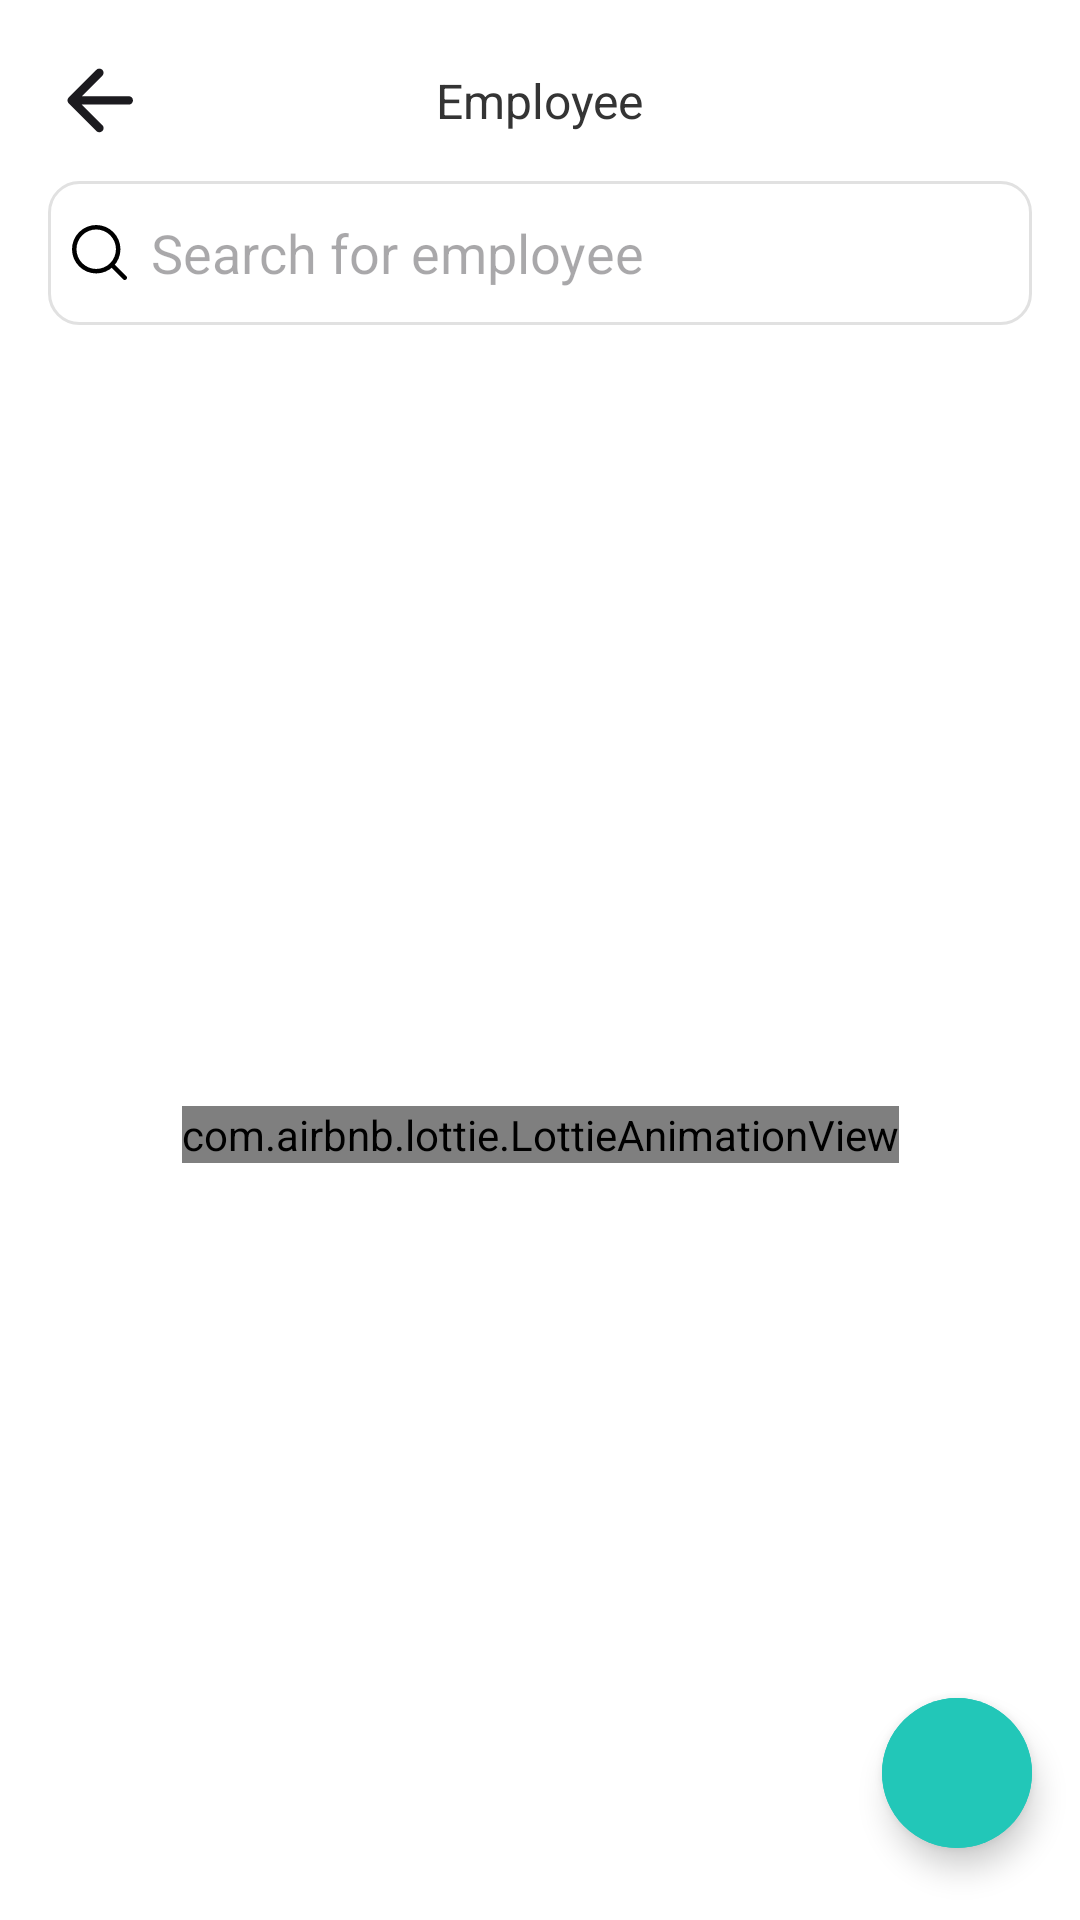

Where icons sit on this 1080x1920 app screen, as box=[x1, y1, x2, y2]:
arrow back: box=[67, 68, 133, 133]
